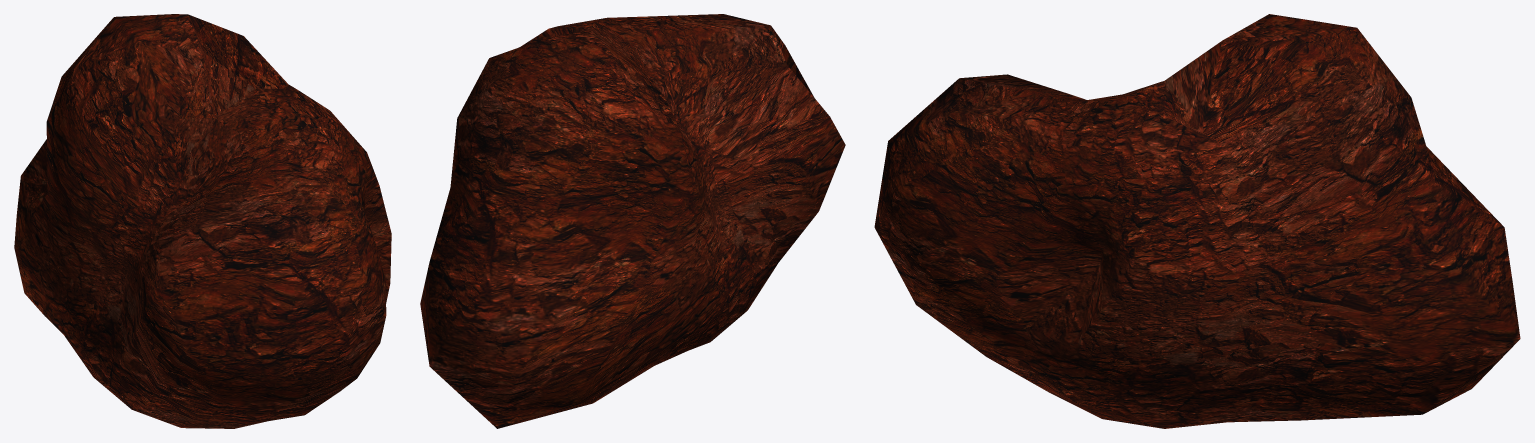
File: asteroid1.FBX
3 renders of one model, left to right at view 1: azimuth 30°, elevation 25°; view 2: azimuth 150°, elevation 25°; view 3: azimuth 270°, elevation 25°, orthographic. The views are drawn at different scales.
Visible parts, largest first — view 1: GeoSphere001; view 2: GeoSphere001; view 3: GeoSphere001.
Boxes of the visible parts, bbox=[...] form: GeoSphere001: bbox=[14, 14, 391, 428]; GeoSphere001: bbox=[420, 14, 845, 428]; GeoSphere001: bbox=[874, 14, 1520, 428].
Bounding box in the file's own units: 39.56 × 69.56 × 45.98.
1 material, 1 textured.
